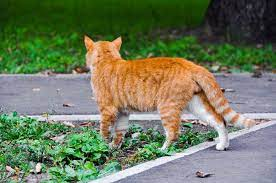cat: (82, 34, 263, 151)
